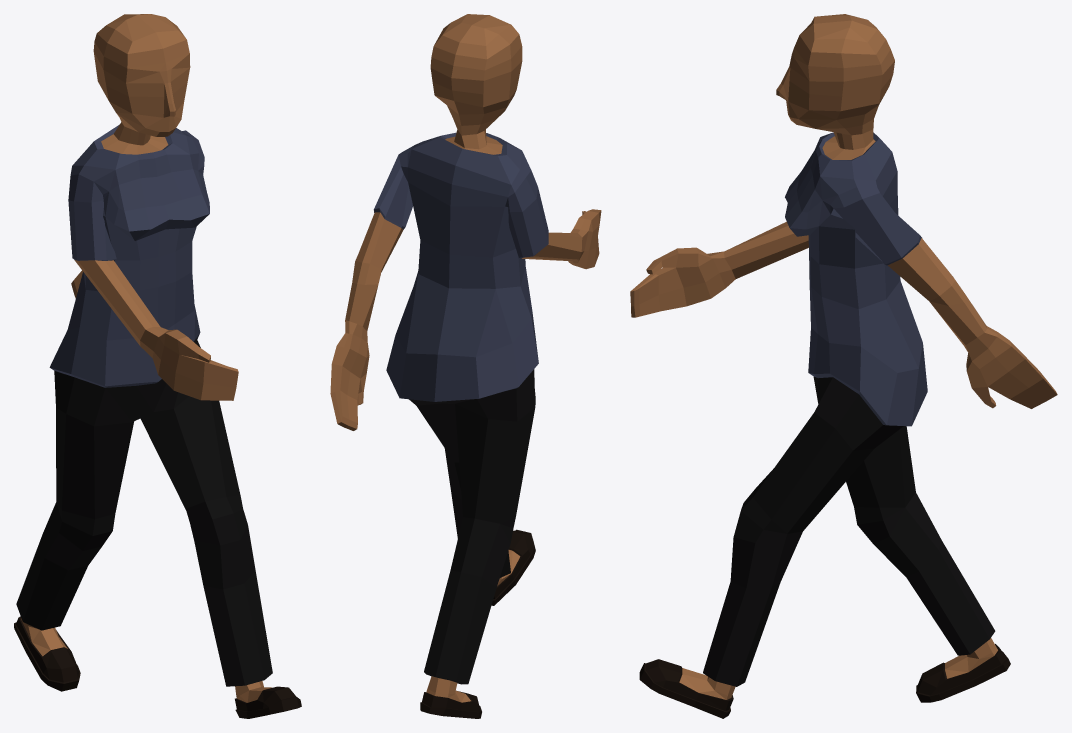
File: Female_Running.obj
The picture shows the model from 3 angles, left to right: view 1: azimuth 30°, elevation 25°; view 2: azimuth 150°, elevation 25°; view 3: azimuth 270°, elevation 25°; orthographic projection. The views are drawn at different scales.
Visible parts, largest first — view 1: Female_Running_Cylinder.004; view 2: Female_Running_Cylinder.004; view 3: Female_Running_Cylinder.004.
Boxes of the visible parts, x1,y1,x2,y2 form: Female_Running_Cylinder.004: (14,14,301,718); Female_Running_Cylinder.004: (330,14,601,718); Female_Running_Cylinder.004: (630,14,1057,718).
Size of the model in its own units: 0.8366 by 3.7 by 2.06.
